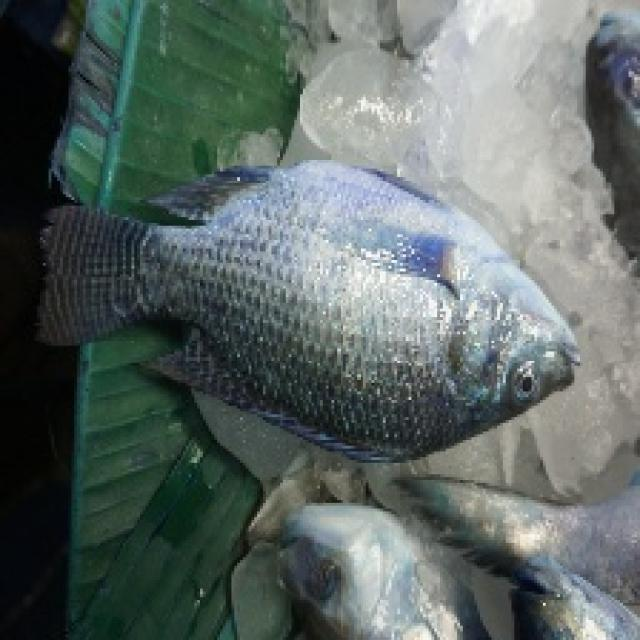Fresh: (175, 140, 593, 477)
